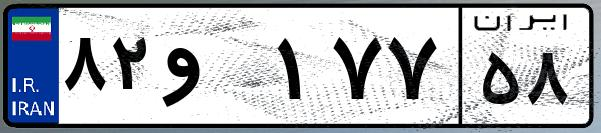1: (270, 28, 330, 110)
2: (110, 28, 158, 98)
5: (475, 38, 525, 113)
7: (385, 28, 445, 110), (330, 28, 385, 110)
8: (57, 26, 110, 100), (525, 38, 570, 115)
و: (158, 20, 270, 120)
